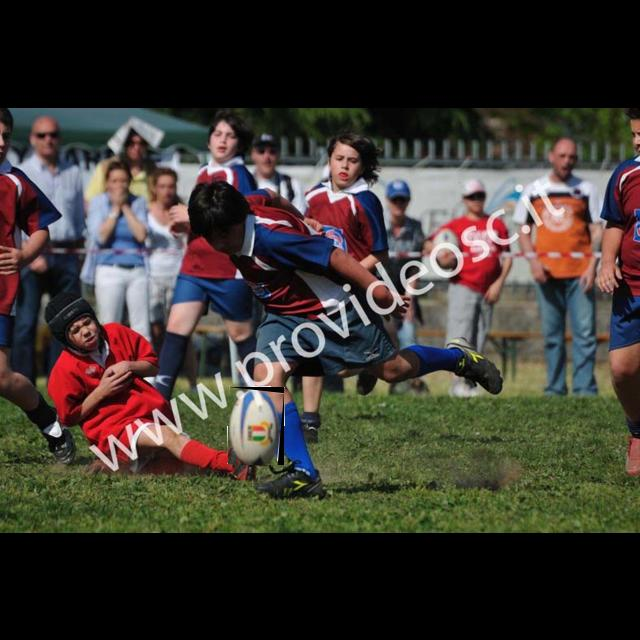Football: (228, 387, 284, 465)
